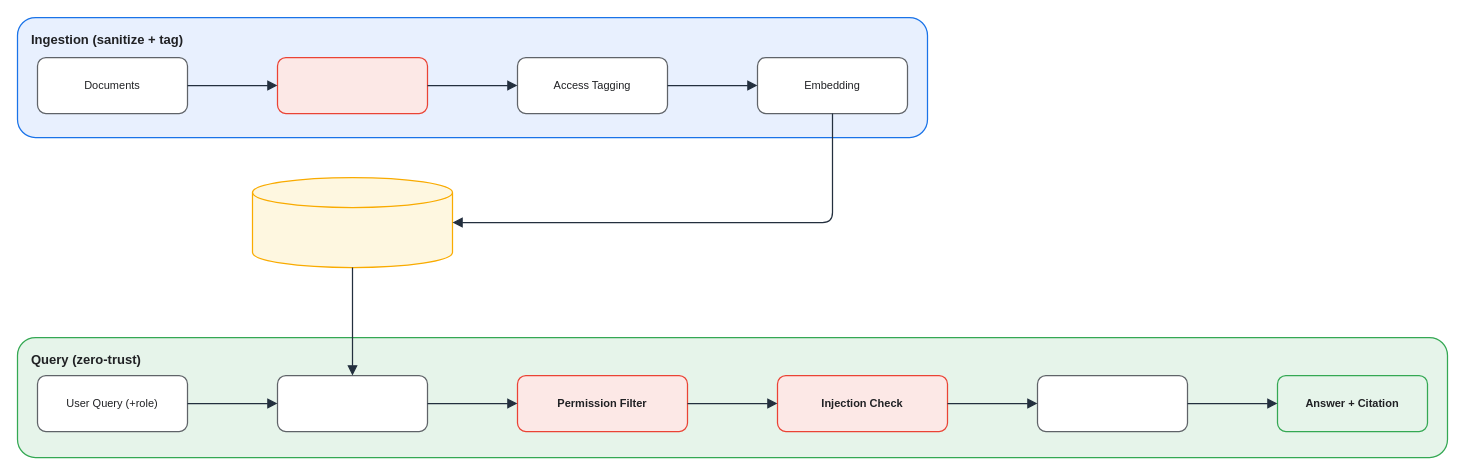
Some shapes in this 1466 by 476 pixel diagram are drawn without their labels. Each missing label, with the centre of its shape:
"LLM Generation" belongs at point 1112,403.
"PII Redaction" belongs at point 352,85.
"Retrieval" belongs at point 352,403.
"Vector DB (text + access tags)" belongs at point 352,222.
